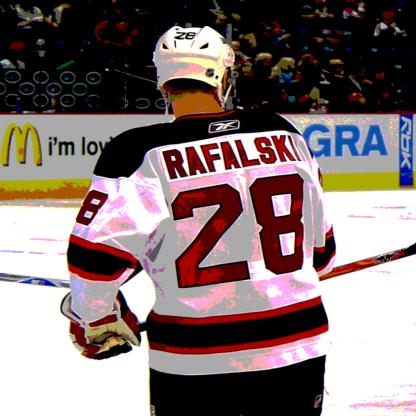Helmet: (146, 23, 240, 105)
